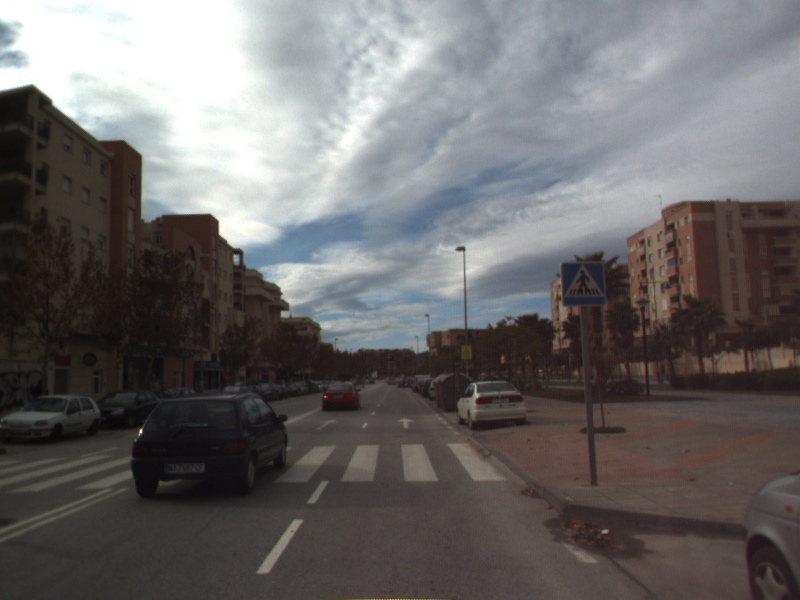STRAIGHT: (314, 416, 340, 432), (395, 415, 416, 430)
